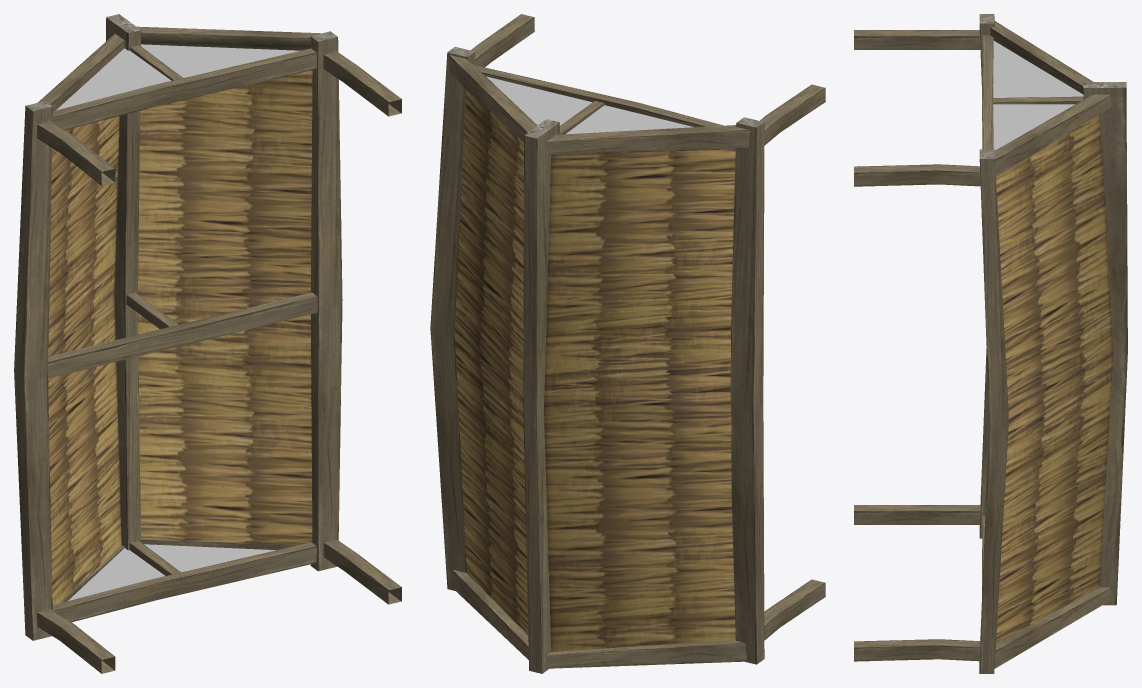
File: Tent_C.fbx
3 views of the same model, side by side, from view 1: azimuth 30°, elevation 25°; view 2: azimuth 150°, elevation 25°; view 3: azimuth 270°, elevation 25° (orthographic). The views are drawn at different scales.
Visible parts, largest first — view 1: Tent_C; view 2: Tent_C; view 3: Tent_C.
Part boxes in pixels (x1,y1,x2,y2): Tent_C: [14, 14, 401, 673]; Tent_C: [430, 14, 825, 673]; Tent_C: [854, 14, 1127, 673].
Bounding box in the file's own units: 7.59 × 12.12 × 5.81.
